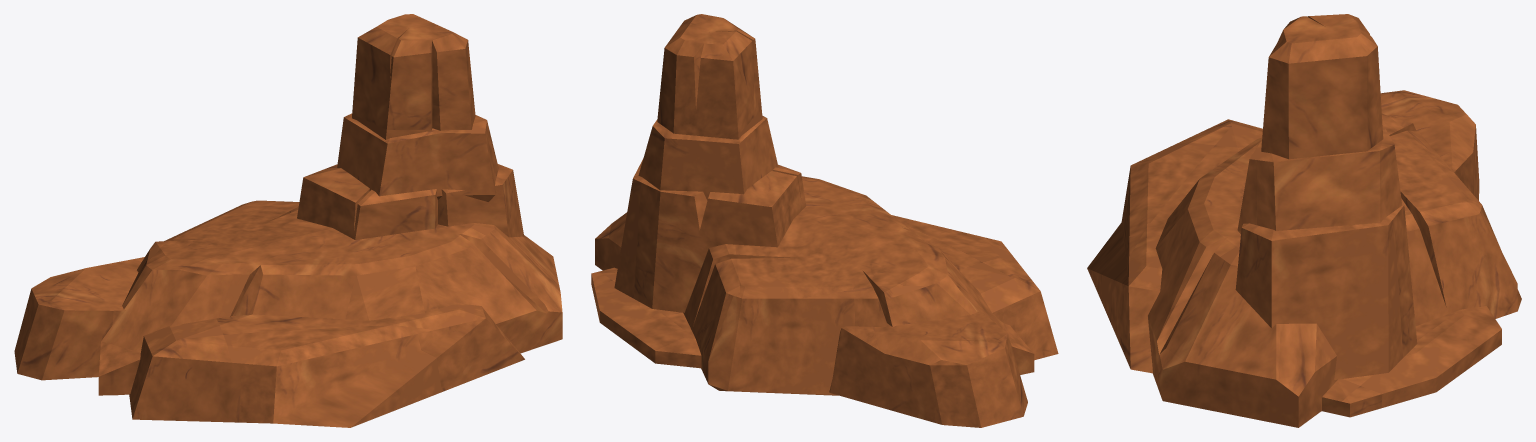
File: rock7.fbx
3 views of the same model, side by side, from view 1: azimuth 30°, elevation 25°; view 2: azimuth 150°, elevation 25°; view 3: azimuth 270°, elevation 25° (orthographic). The views are drawn at different scales.
Parts seen in each view (by area): view 1: 7; view 2: 7; view 3: 7.
Boxes of the visible parts, left/top/right/bottom form: 7: left=14, top=14, right=562, bottom=427; 7: left=591, top=14, right=1058, bottom=427; 7: left=1087, top=14, right=1521, bottom=427.
Bounding box in the file's own units: 101 × 56.94 × 66.7.
1 material, 1 textured.
